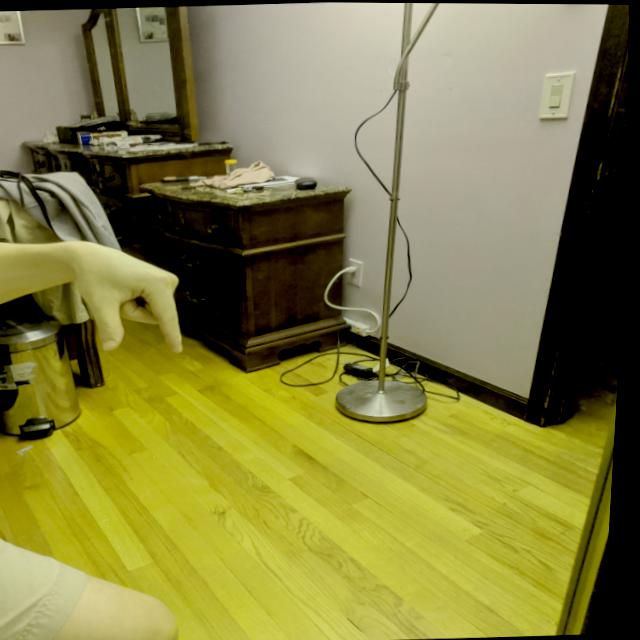Q: (68, 233, 197, 360)
